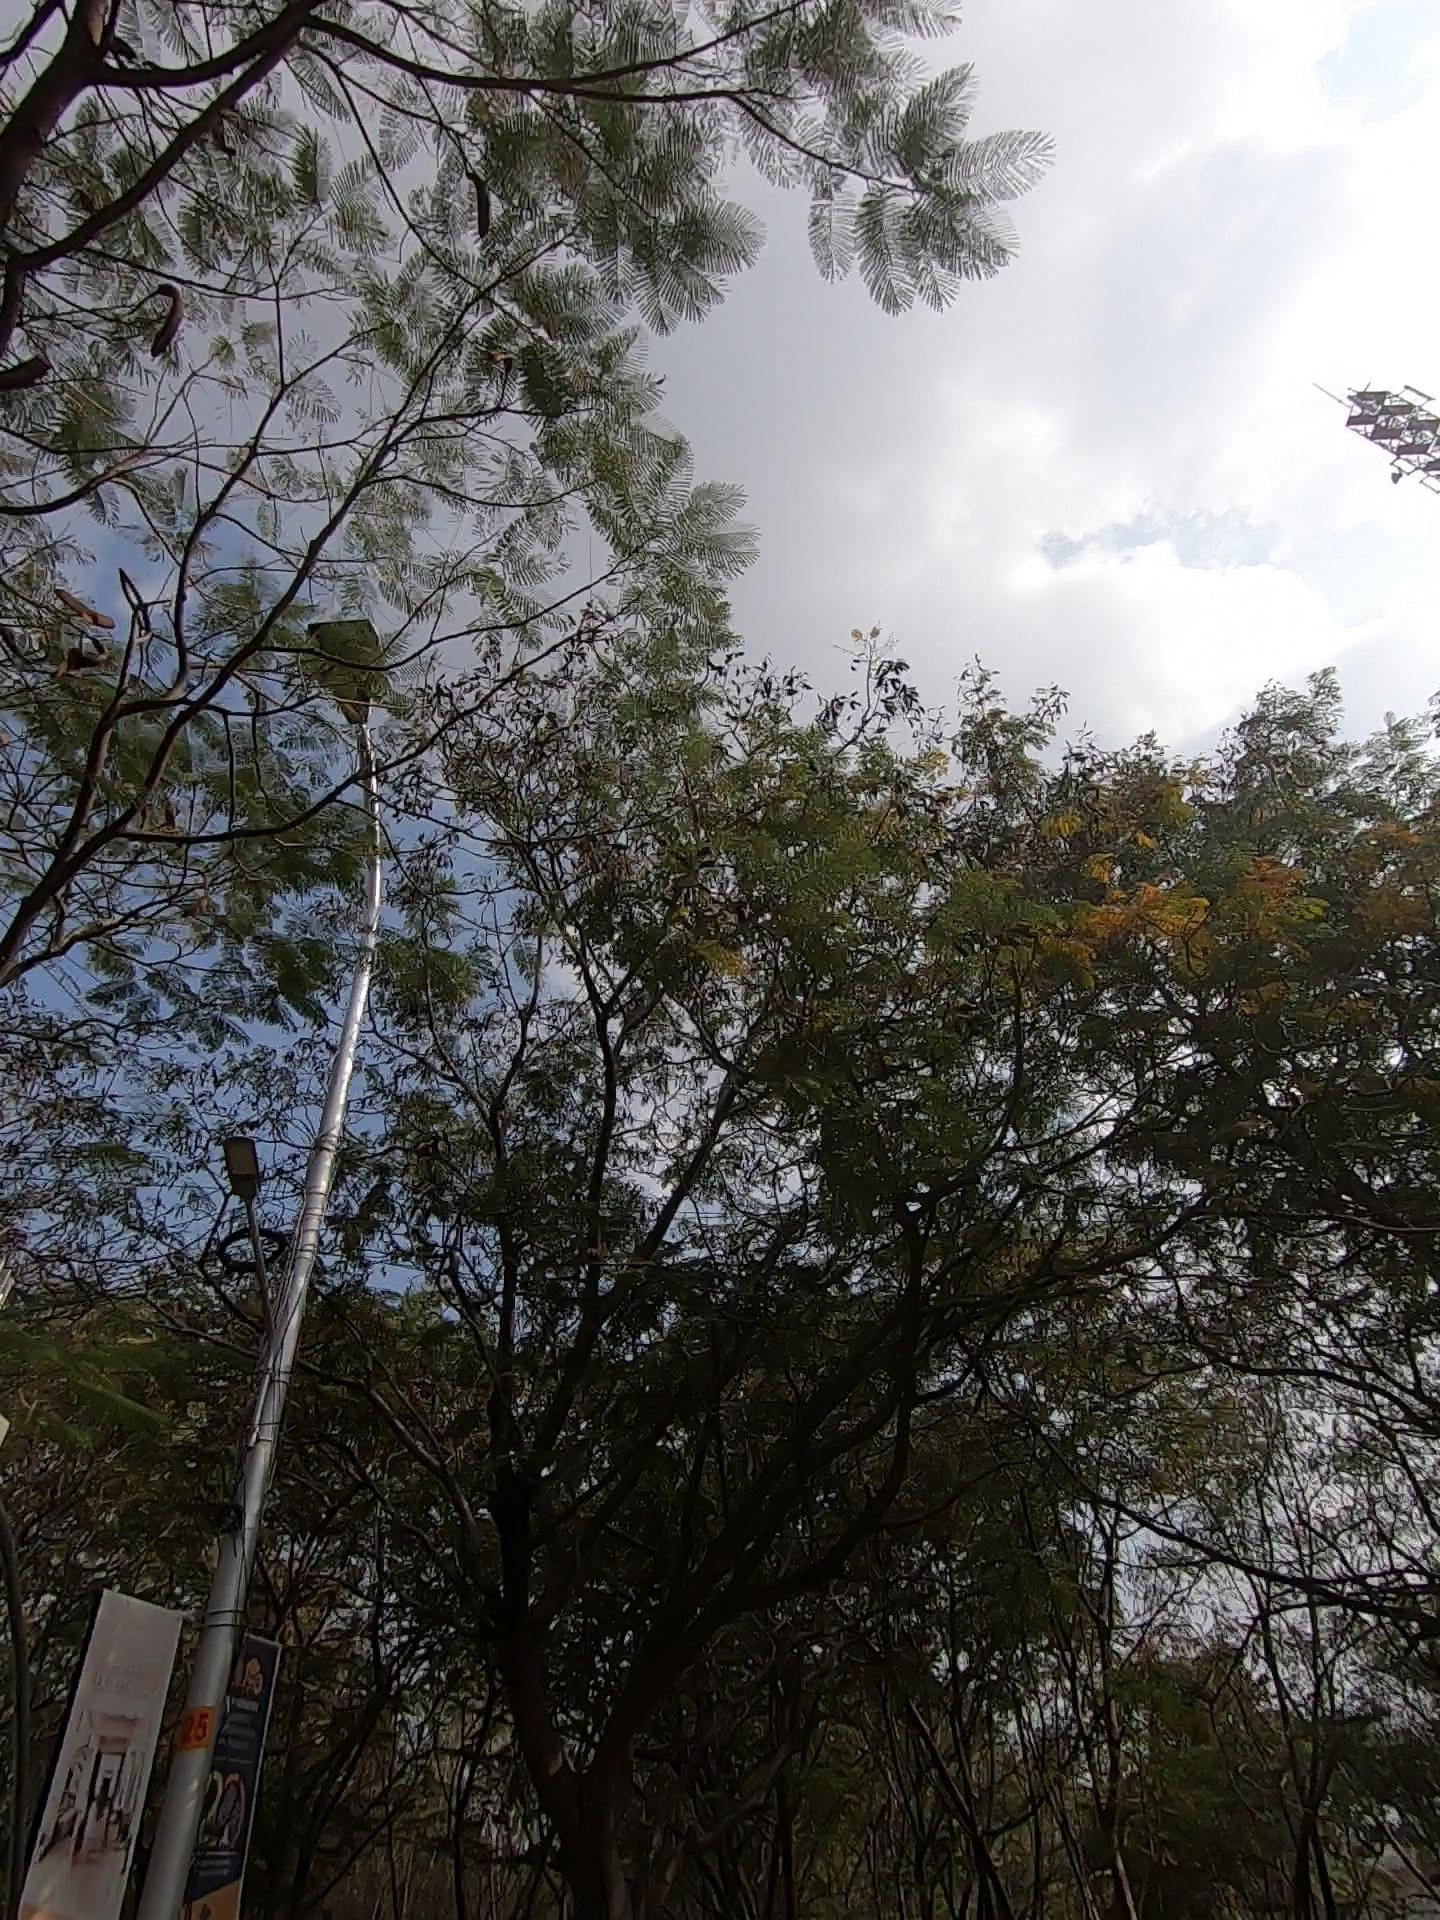off: (219, 522, 496, 1048)
